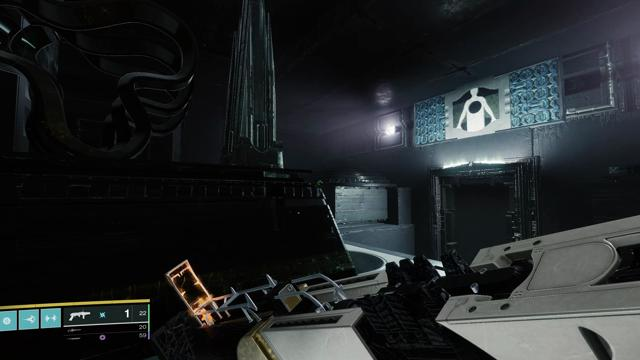grief: (453, 87, 499, 132)
